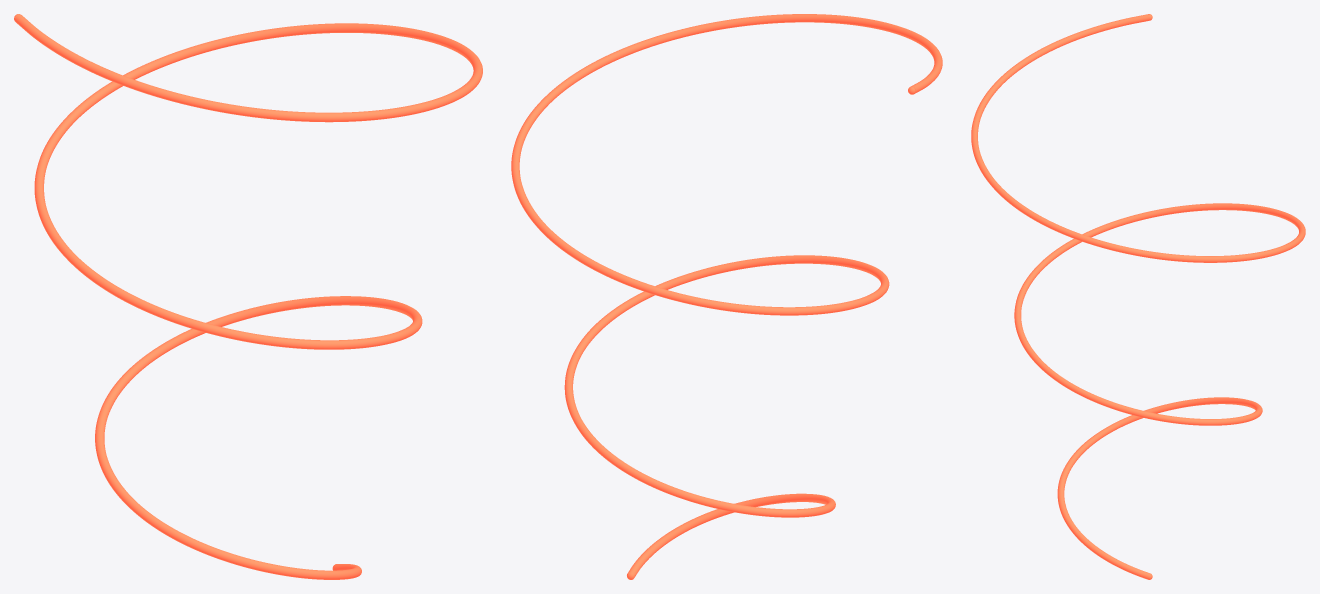
The model's file is line-helix.glb.
The picture shows the model from 3 angles, left to right: view 1: azimuth 30°, elevation 25°; view 2: azimuth 150°, elevation 25°; view 3: azimuth 270°, elevation 25°; orthographic projection. The views are drawn at different scales.
Parts seen in each view (by area): view 1: line; view 2: line; view 3: line.
Boxes of the visible parts, x1,y1,x2,y2 form: line: [15, 15, 482, 579]; line: [511, 14, 942, 576]; line: [971, 14, 1305, 579].
Bounding box in the file's own units: 1.15 × 1.62 × 1.08.
